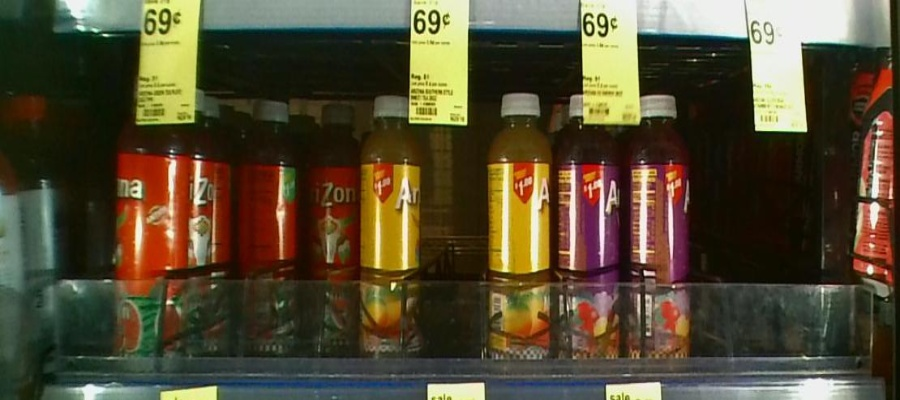bottle: (109, 59, 191, 376), (555, 78, 629, 393), (482, 79, 555, 383), (236, 89, 302, 372), (630, 79, 691, 367), (362, 85, 422, 375), (306, 96, 359, 372)
